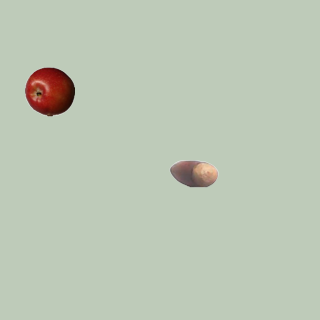Apple Braeburn: (24, 66, 74, 116)
Hazelnut: (168, 148, 218, 198)
